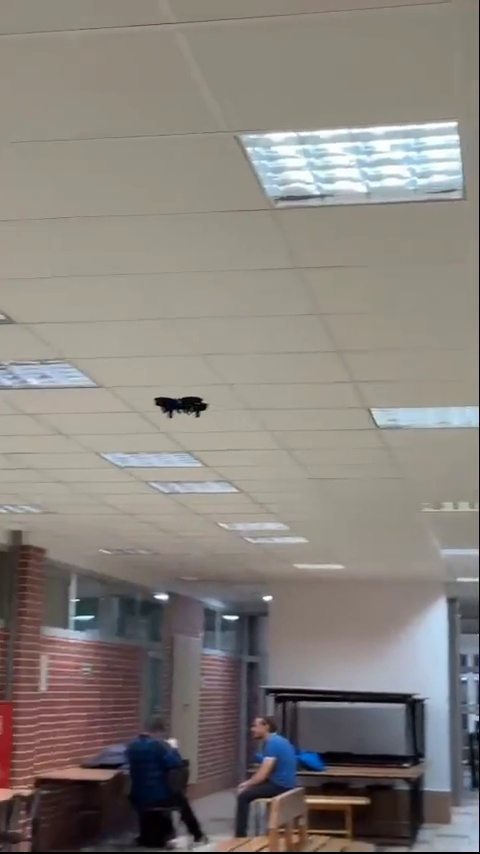drone: (153, 392, 208, 420)
no vest: (129, 715, 200, 845), (236, 709, 301, 816)
